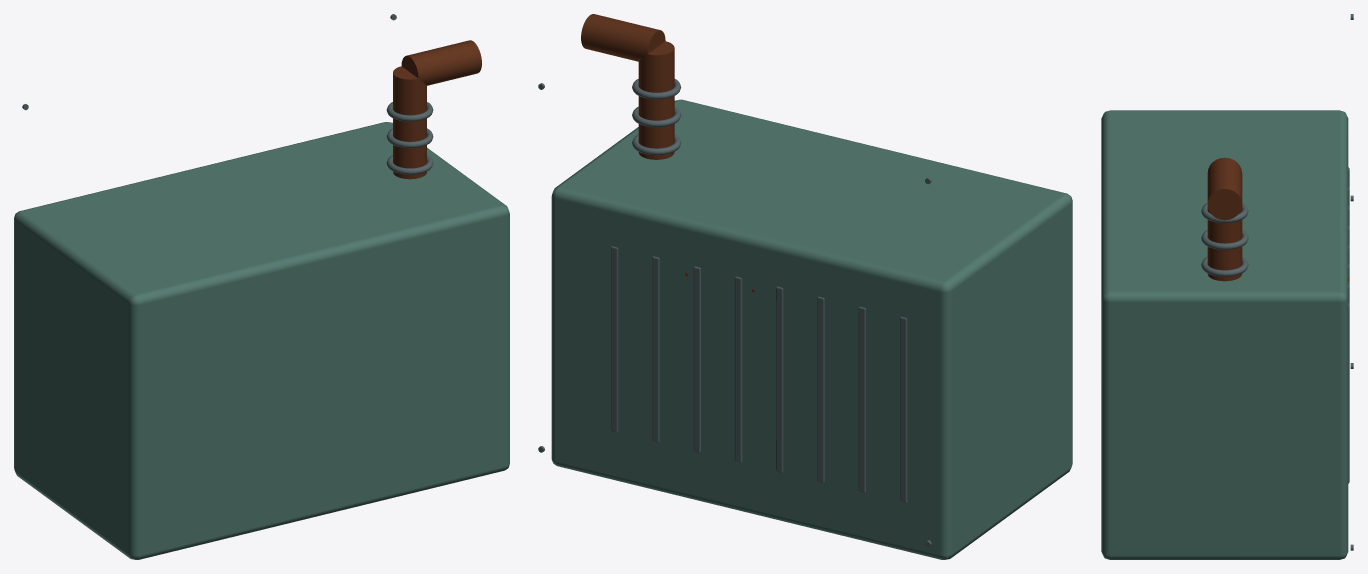
File: Generator.obj
3 renders of one model, left to right at view 1: azimuth 30°, elevation 25°; view 2: azimuth 150°, elevation 25°; view 3: azimuth 270°, elevation 25°, orthographic. The views are drawn at different scales.
Visible parts, largest first — view 1: Generator; view 2: Generator; view 3: Generator.
Part boxes in pixels (left/top/right/bottom): Generator: left=14, top=14, right=509, bottom=559; Generator: left=538, top=14, right=1072, bottom=559; Generator: left=1101, top=14, right=1353, bottom=559.
Bounding box in the file's own units: 1.9 × 1.72 × 1.02.
